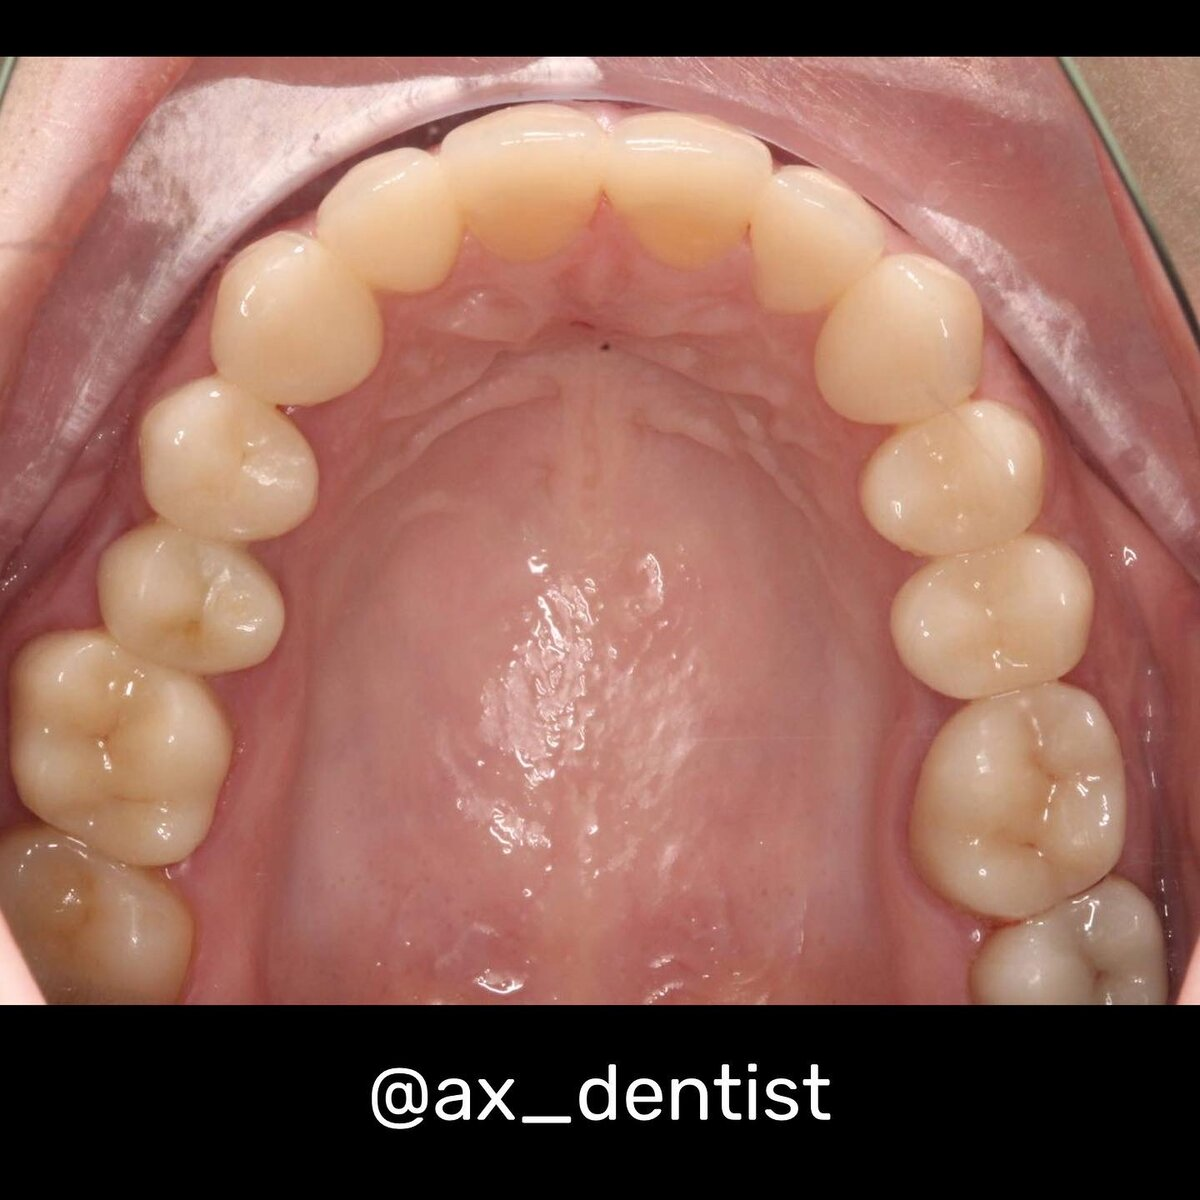UL1BC_healthy: (863, 403, 1040, 554)
UL1M_healthy: (916, 686, 1125, 916)
UL2BC_healthy: (893, 542, 1090, 696)
UL2M_decay: (985, 918, 1163, 1000)
ULCI_healthy: (608, 110, 767, 266)
ULC_healthy: (819, 253, 981, 419)
ULLI_healthy: (757, 165, 885, 309)
UR1BC_healthy: (141, 381, 314, 537)
UR1M_healthy: (14, 634, 226, 863)
UR2BC_healthy: (98, 533, 285, 669)
UR2M_healthy: (35, 840, 191, 1000)
URCI_healthy: (440, 103, 604, 263)
URC_healthy: (211, 230, 379, 403)
URLI_healthy: (322, 148, 458, 290)
